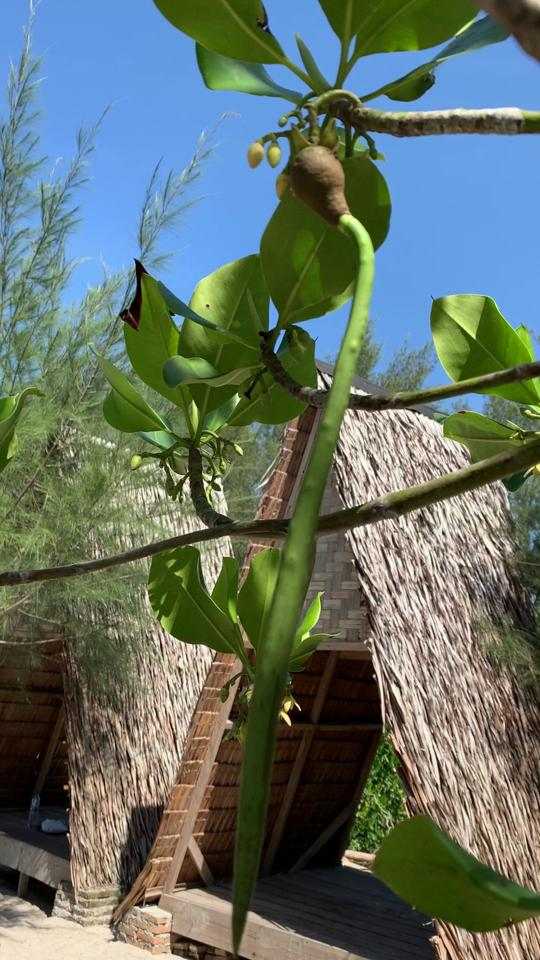setengah matang: (216, 121, 390, 955)
